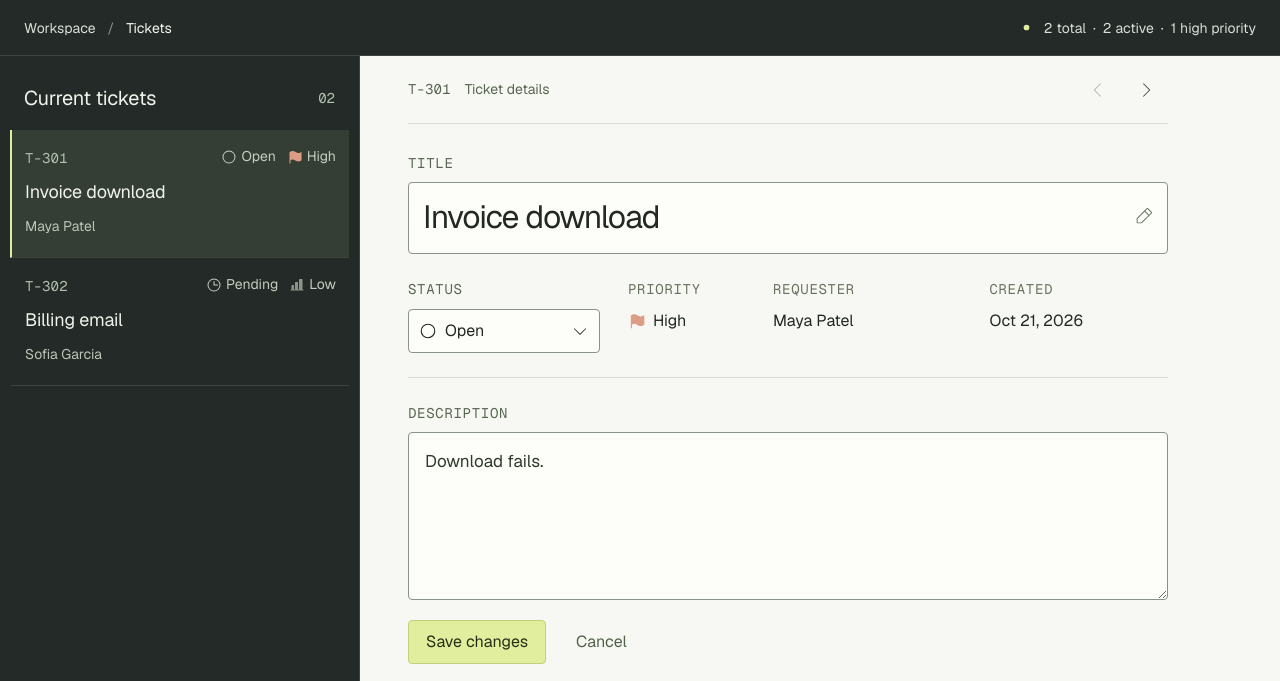
ticket workspace › blocks navigation and duplicate submissions while a save is pending
Check: the text box labelled "Title" is shown, box [408,182,1168,254]
Click the button "Save changes" at (477, 642), box [408,620,546,664]
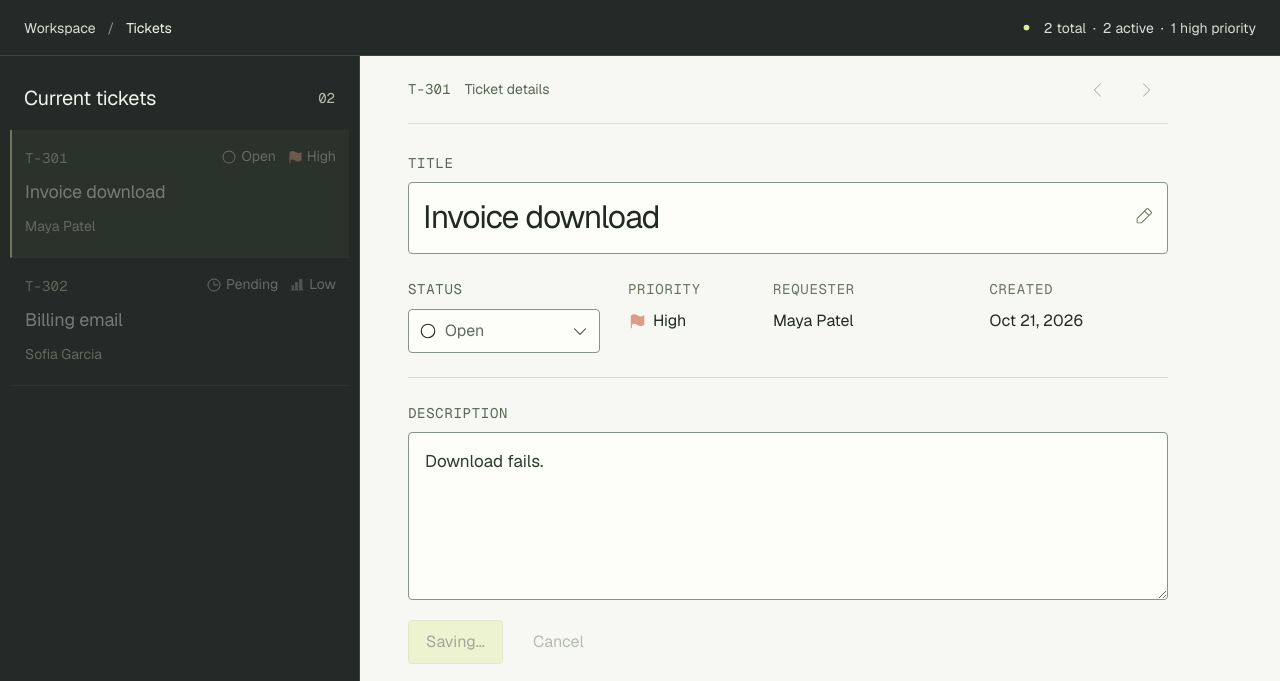
Check: the button named "Next ticket" is disabled, box [1124,68,1168,112]
Check: the button with aria-label "View details for T-302" is disabled, box [10,258,349,386]
Submit the form named "Edit ticket T-301", box [408,124,1168,664]
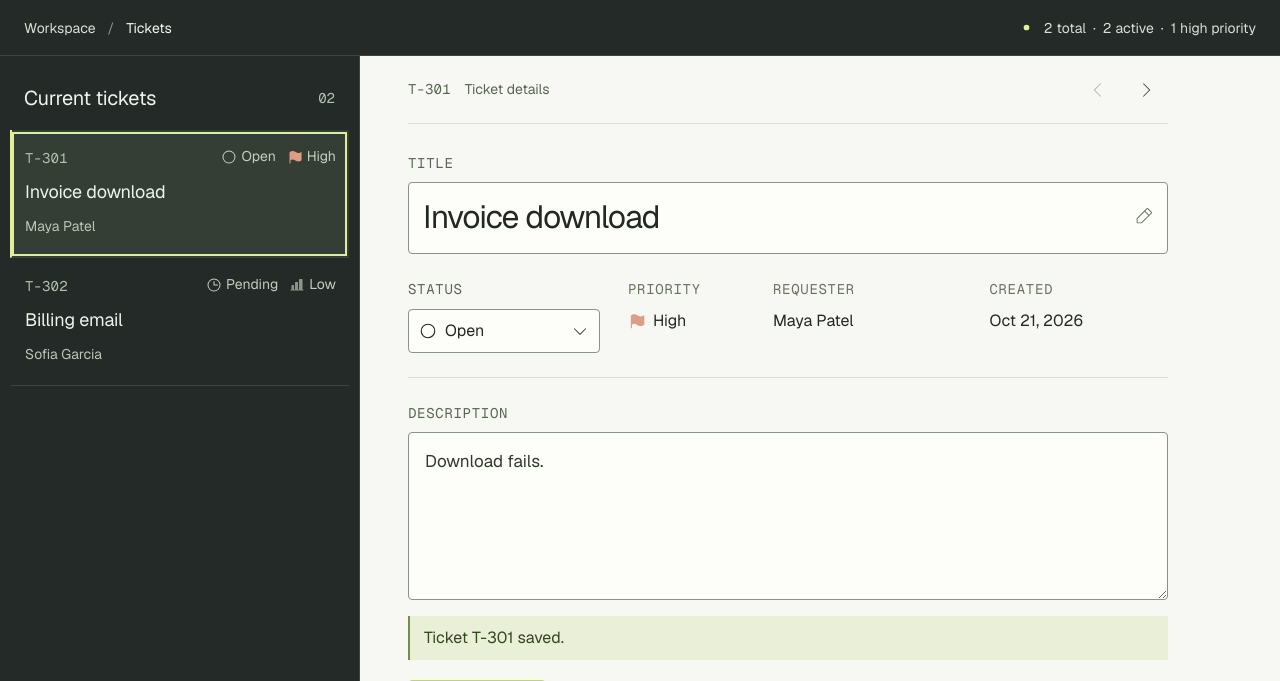
Check: the button named "Next ticket" is enabled, box [1124,68,1168,112]
Check: the message "Ticket T-301 saved." is shown, box [408,616,1168,660]
